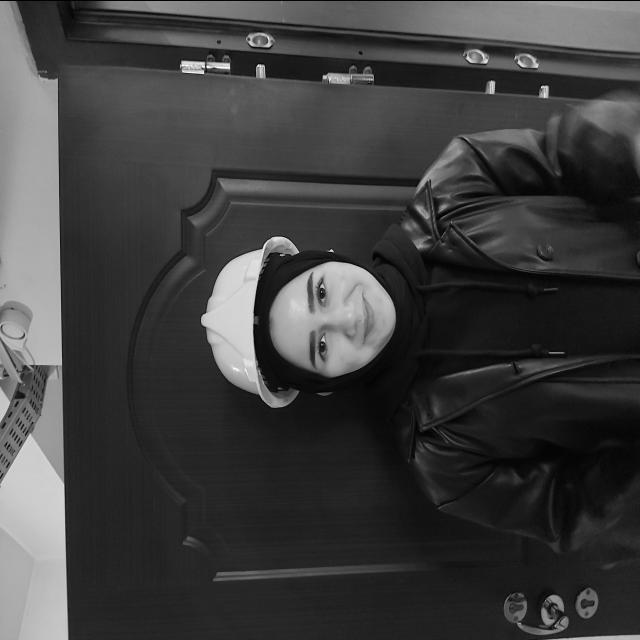safety_helmet: (202, 235, 358, 408)
